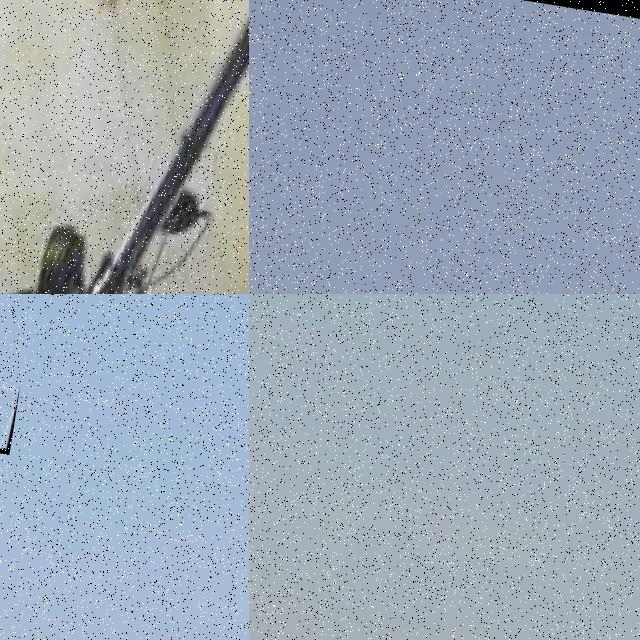drone: (0, 0, 249, 294)
